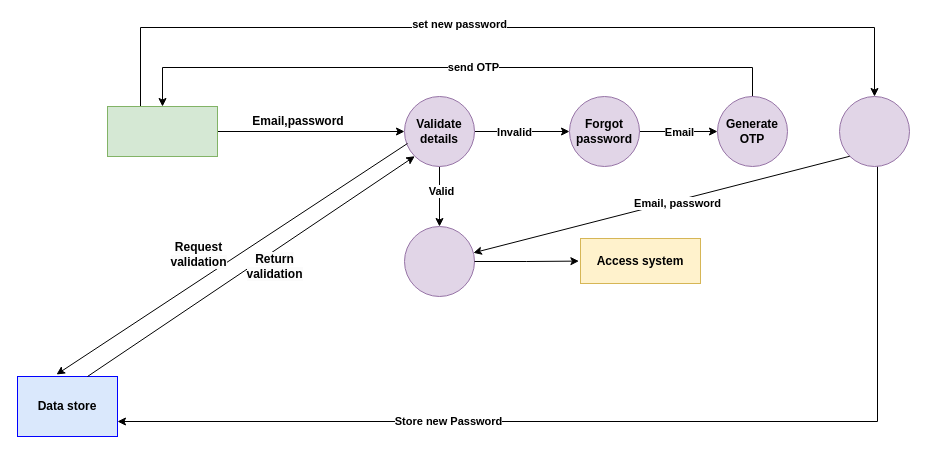
Some shapes in this 927 by 454 pixel diagram are drawn without their labels. The centre of each missing label's shape, as x and y in pixels:
"Login" belongs at pixel 439 261.
"Recover password" belongs at pixel 874 131.
"User" belongs at pixel 162 131.
